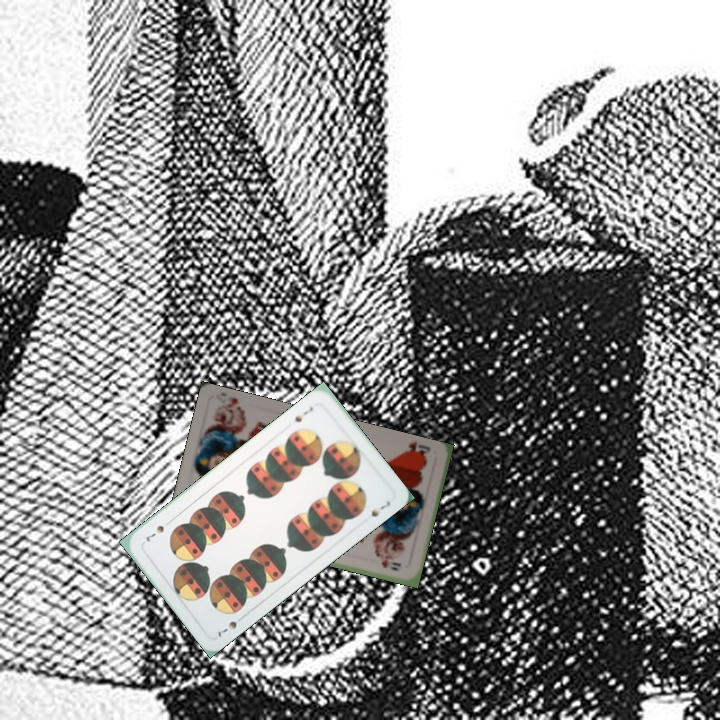HO: (398, 438, 433, 461)
S7: (213, 617, 240, 640), (290, 402, 316, 425)
